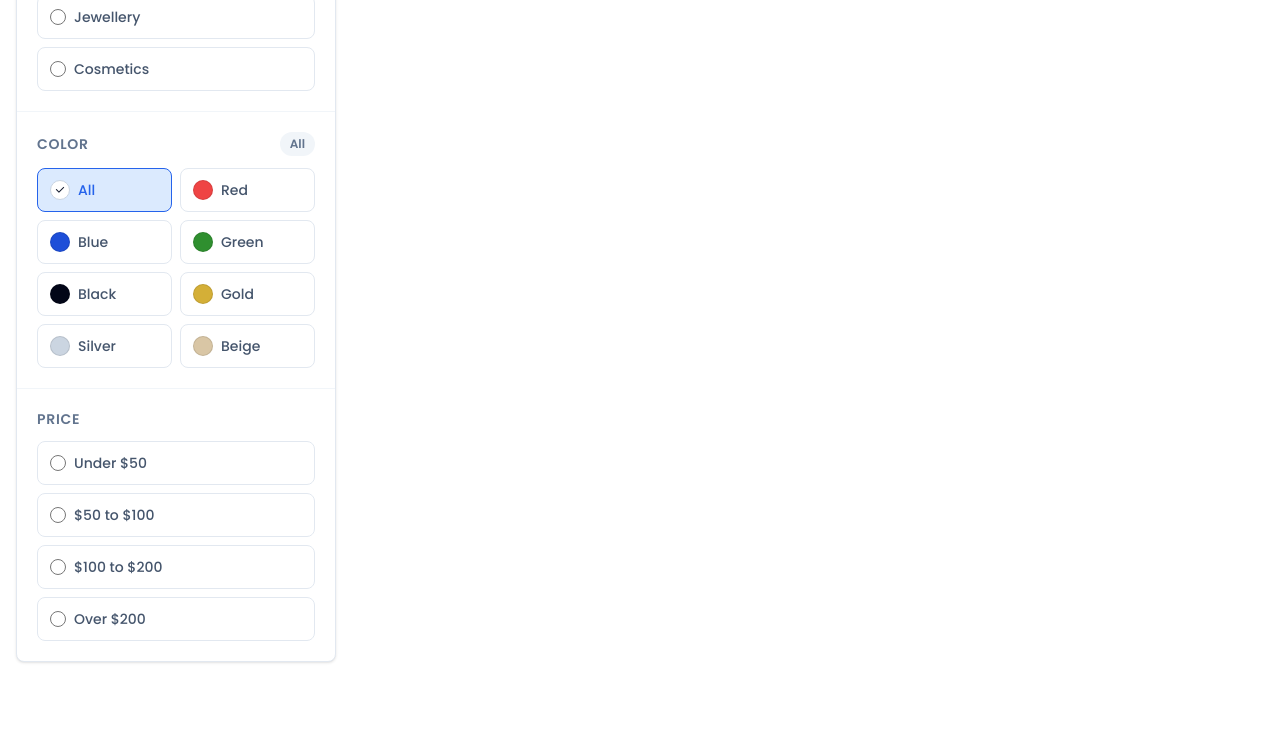
Test: ShopPage price filter › sends minPrice=0/maxPrice=50 (never empty strings) when 'Under $50' is selected
(page scrolled)
Click the radio button labelled "Under $50".
click(58, 463)  # box [50,455,66,471]
(page scrolled)
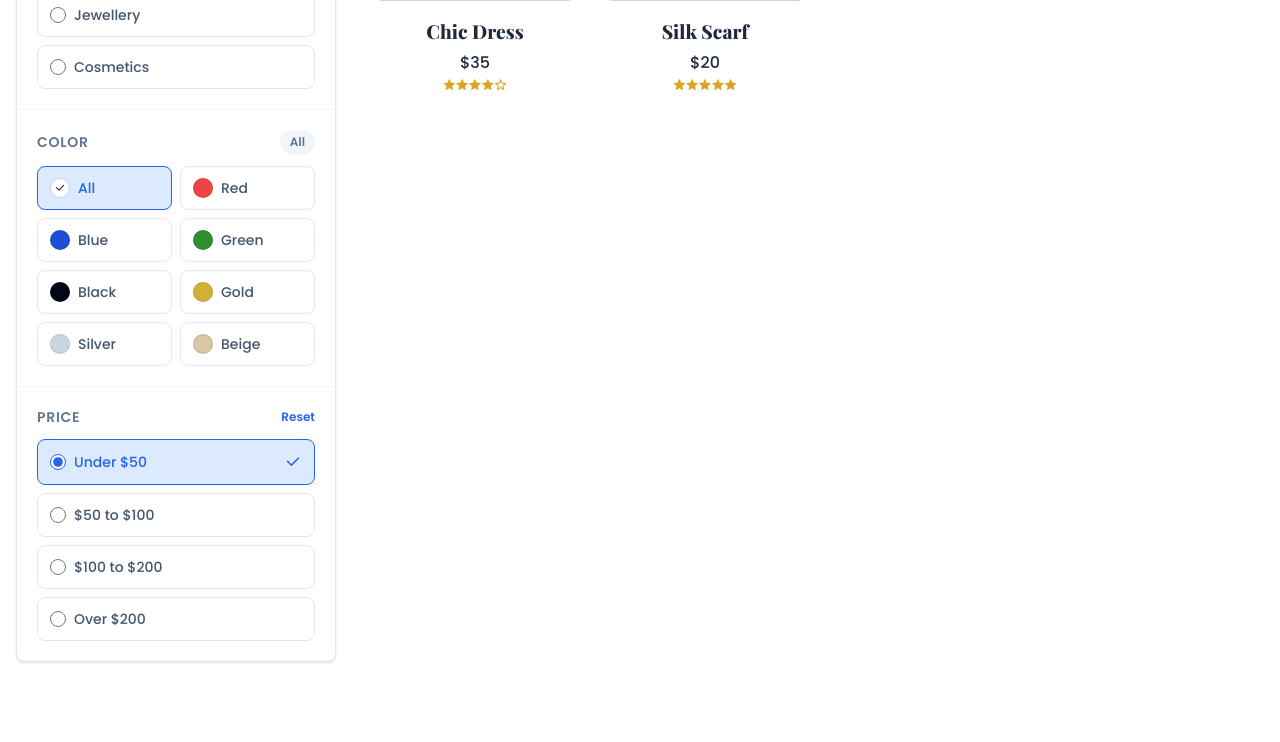
Now the heading "Chic Dress" is shown, box [426,18,524,44]
